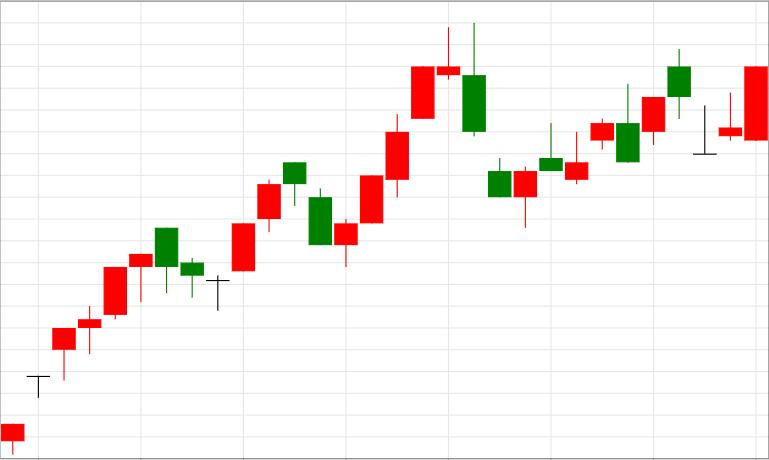three_white_soldiers_rise: (283, 114, 409, 267)
